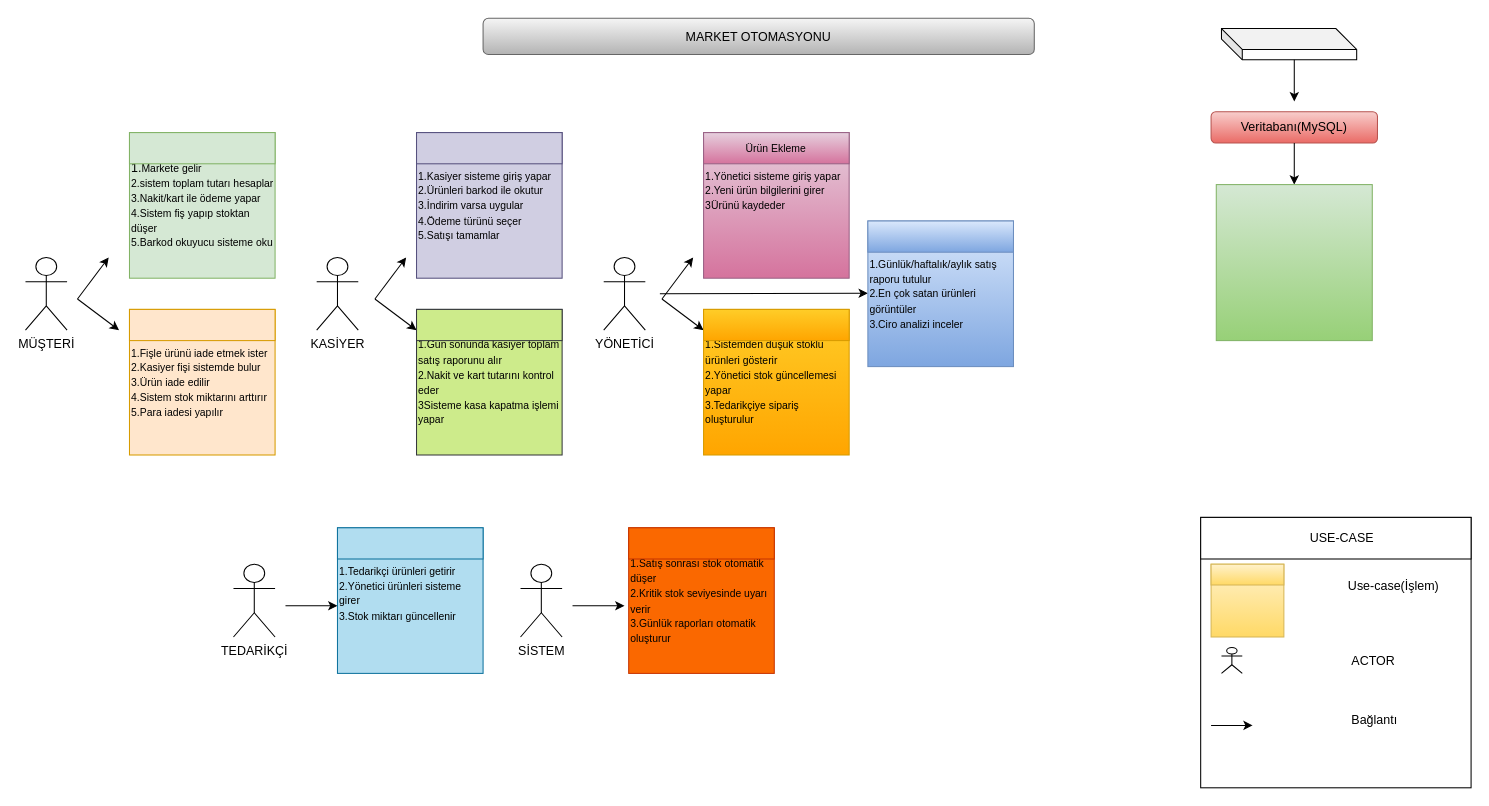
This 1489x806 diagram has some shape labels left out. Each missing label, with the box of its shape:
.ÜRÜNLER .KATEGORİLER .SATIŞLAR .KULLANICILAR .TEDARİKÇİLER .STOK: (1215, 184, 1372, 341)
Actor: (1220, 646, 1242, 673)
Gün Sonu Kasa Kapama: (415, 308, 562, 341)
İade Senaryosu: (128, 308, 275, 341)
Rapor Alma: (867, 220, 1013, 252)
SATIŞ İŞLEMİ: (415, 132, 562, 164)
Sistem Senaryoları: (628, 527, 774, 559)
Stok Kontrol: (703, 308, 849, 341)
Ürün Satın Alma Senaryosu: (128, 132, 275, 164)
Ürün Teslimatı: (336, 527, 483, 559)
